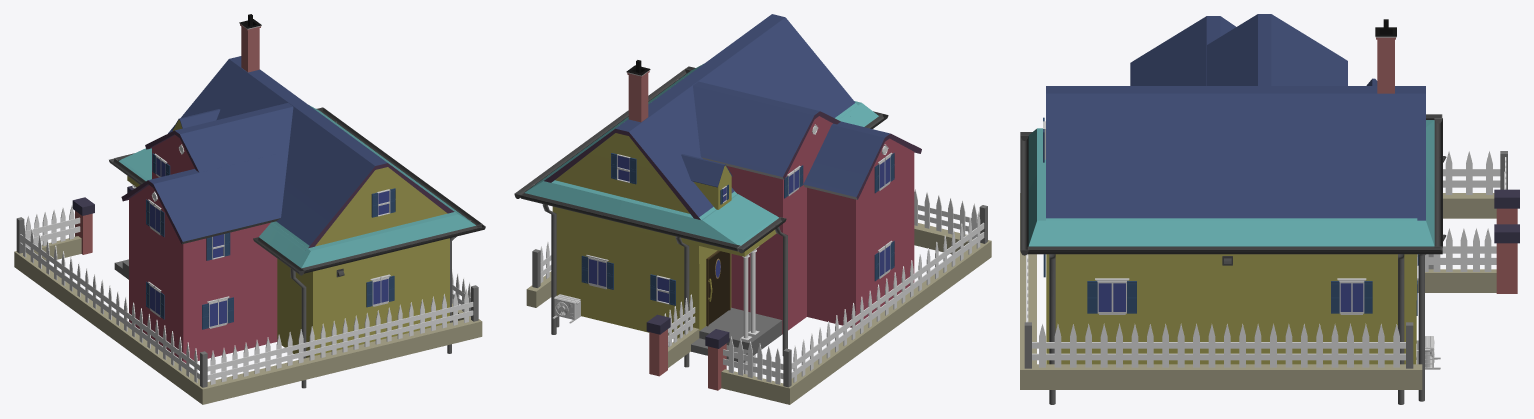
The model's file is house008.fbx.
3 views of the same model, side by side, from view 1: azimuth 30°, elevation 25°; view 2: azimuth 150°, elevation 25°; view 3: azimuth 270°, elevation 25° (orthographic). The views are drawn at different scales.
Parts seen in each view (by area): view 1: polySurface178; view 2: polySurface178; view 3: polySurface178.
Part boxes in pixels (bbox=[...]): polySurface178: bbox=[14, 14, 485, 404]; polySurface178: bbox=[514, 14, 991, 404]; polySurface178: bbox=[1020, 14, 1519, 404].
Bounding box in the file's own units: 10.53 × 9.58 × 12.4.
